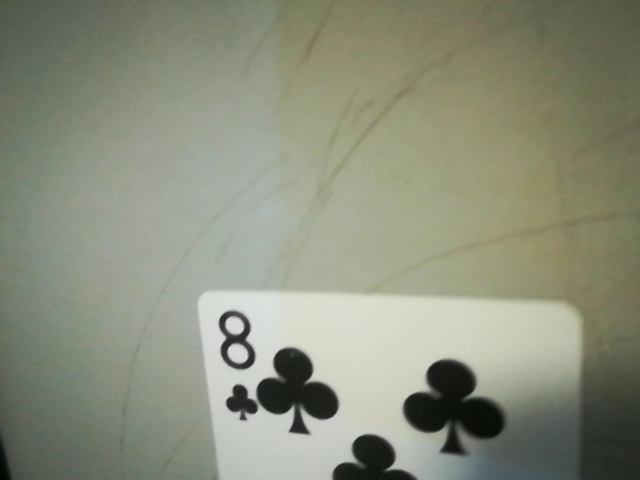mh 8: (203, 299, 263, 425)
